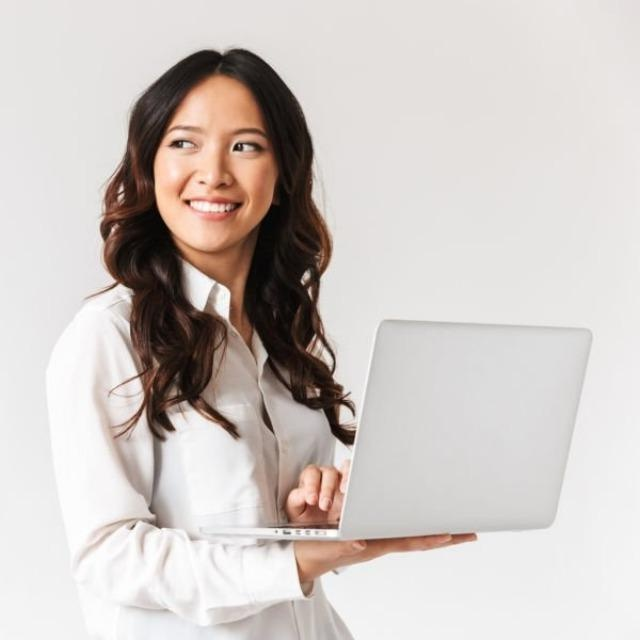Sin_Casco_Mascarrilla: (125, 47, 304, 253)
Sin_Chaleco: (52, 277, 337, 633)
